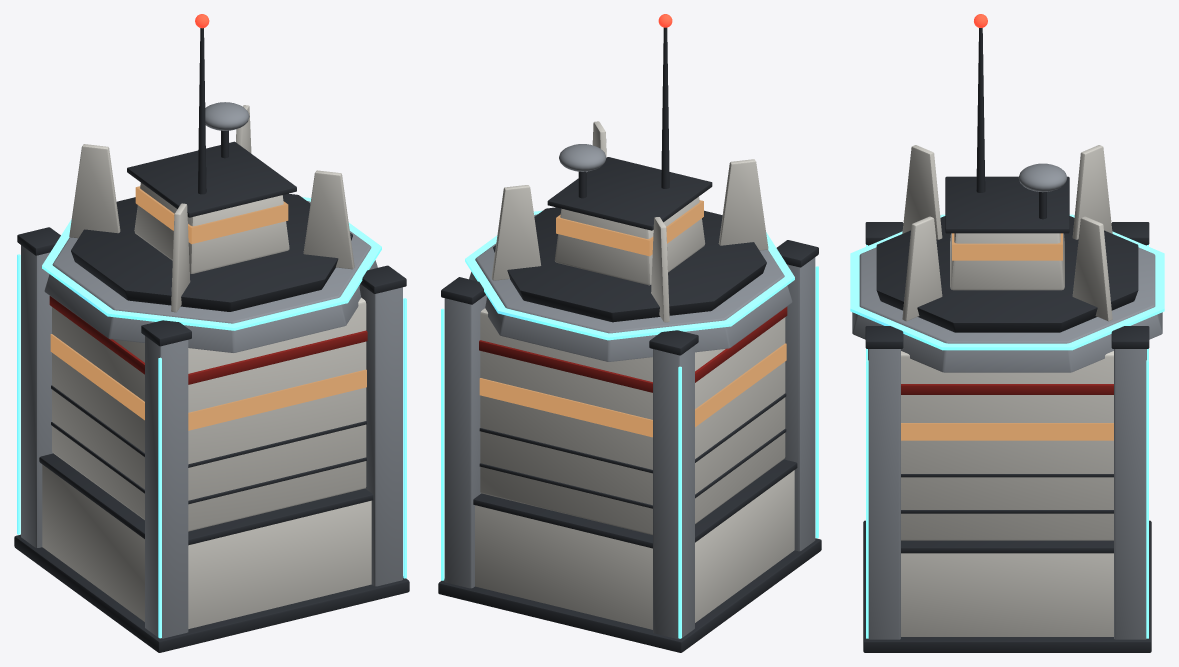
File: props.glb
The picture shows the model from 3 angles, left to right: view 1: azimuth 30°, elevation 25°; view 2: azimuth 150°, elevation 25°; view 3: azimuth 270°, elevation 25°; orthographic projection. The views are drawn at different scales.
Parts seen in each view (by area): view 1: TurboliftTower; view 2: TurboliftTower; view 3: TurboliftTower.
Part boxes in pixels (x1,y1,x2,y2): TurboliftTower: (14,14,409,652); TurboliftTower: (438,14,821,652); TurboliftTower: (850,14,1164,652).
Size of the model in its own units: 14.19 by 28.23 by 14.19.
